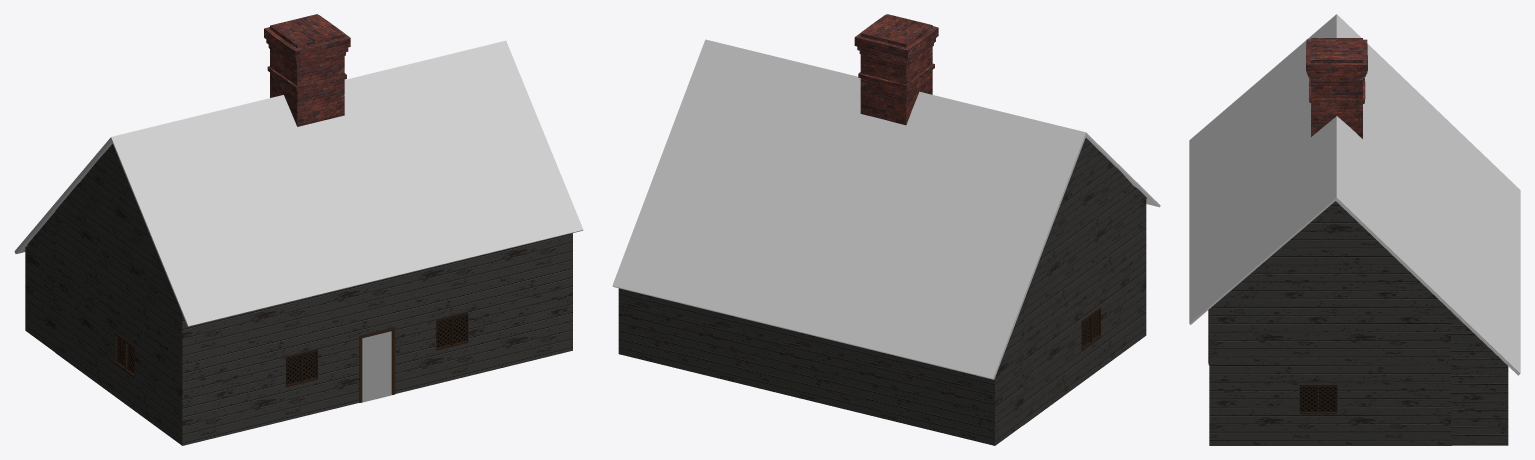
File: house_1.fbx
The picture shows the model from 3 angles, left to right: view 1: azimuth 30°, elevation 25°; view 2: azimuth 150°, elevation 25°; view 3: azimuth 270°, elevation 25°; orthographic projection. The views are drawn at different scales.
Parts seen in each view (by area): view 1: roof, houseface, chimney, roof_side1, door, window5, window3, window4; view 2: roof, houseface, chimney, roof_side1, window4; view 3: roof, houseface, roof_side, chimney, window1.
Part boxes in pixels (bbox=[...]): roof: bbox=[14, 40, 583, 326]; houseface: bbox=[25, 211, 572, 445]; chimney: bbox=[264, 14, 350, 126]; roof_side1: bbox=[55, 144, 176, 299]; door: bbox=[362, 331, 391, 402]; window5: bbox=[436, 312, 468, 350]; window3: bbox=[286, 349, 317, 387]; window4: bbox=[115, 333, 134, 377]; roof: bbox=[612, 39, 1160, 379]; houseface: bbox=[618, 199, 1146, 445]; chimney: bbox=[854, 14, 938, 125]; roof_side1: bbox=[1031, 138, 1146, 282]; window4: bbox=[1081, 307, 1100, 350]; roof: bbox=[1189, 14, 1520, 375]; houseface: bbox=[1208, 310, 1508, 445]; roof_side: bbox=[1209, 201, 1449, 310]; chimney: bbox=[1306, 38, 1367, 138]; window1: bbox=[1299, 385, 1337, 414].
Bounding box in the file's own units: 44.36 × 34.38 × 33.82.
